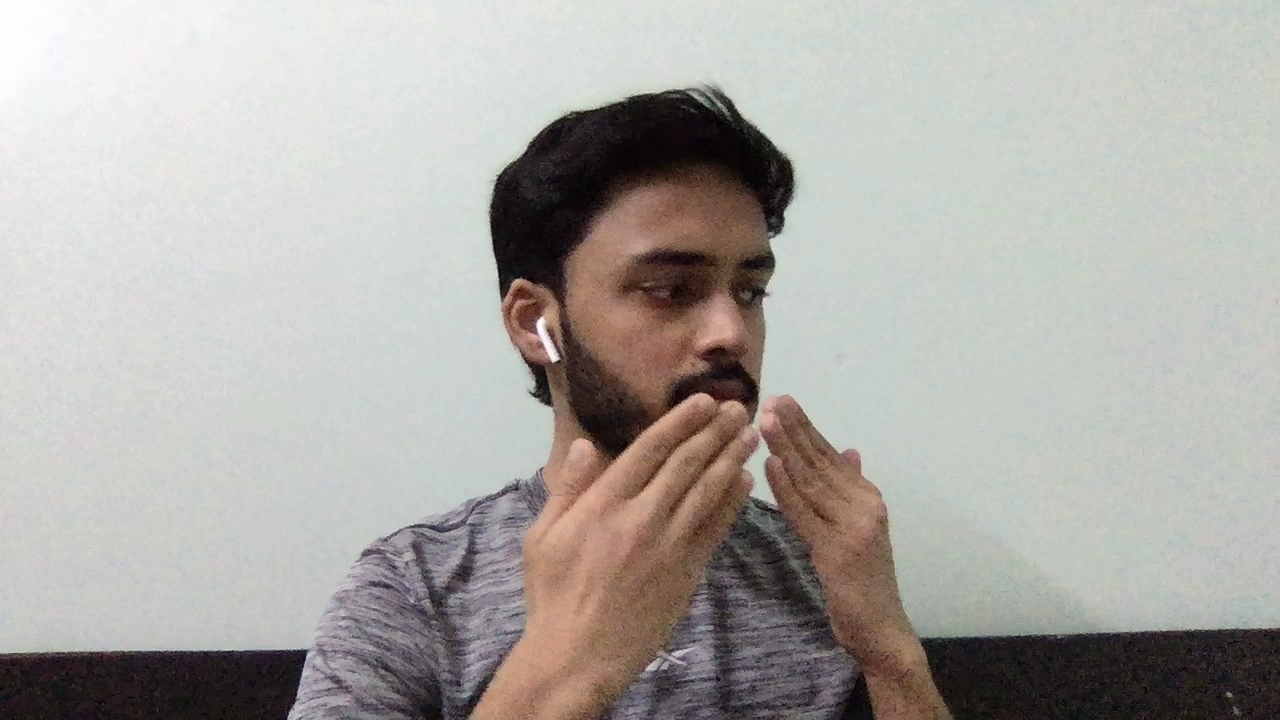Thank You: (485, 384, 944, 679)
